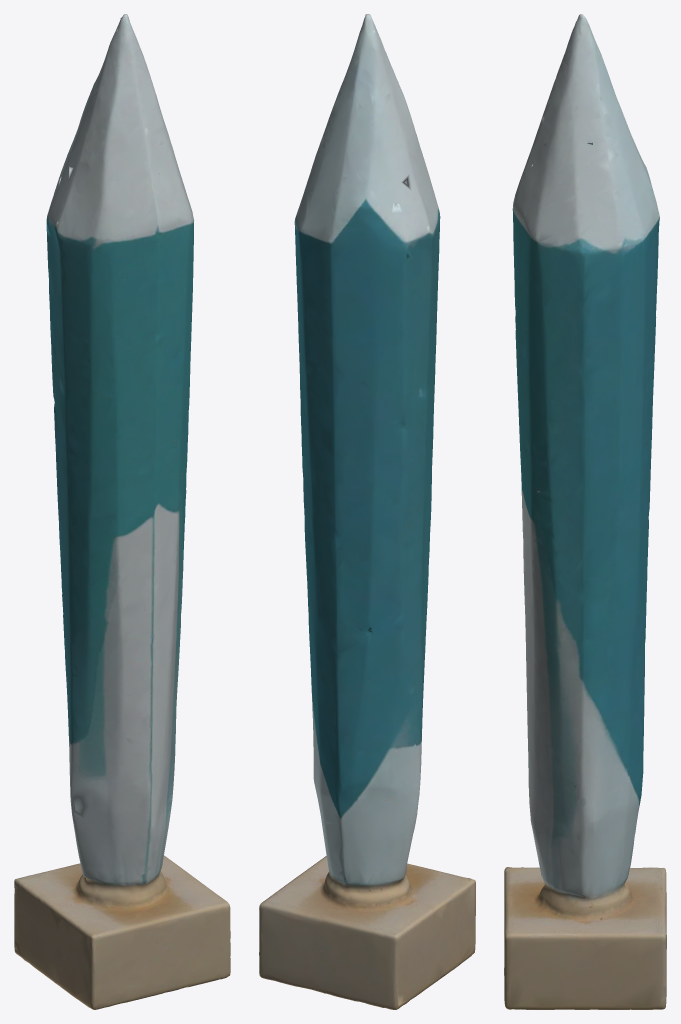
Rendered from apex-reliquia-prisma.glb.
3 renders of one model, left to right at view 1: azimuth 30°, elevation 25°; view 2: azimuth 150°, elevation 25°; view 3: azimuth 270°, elevation 25°, orthographic.
Bounding box in the file's own units: 0.3088 × 2 × 0.3064.
Materials: 1 (1 with a texture image).
